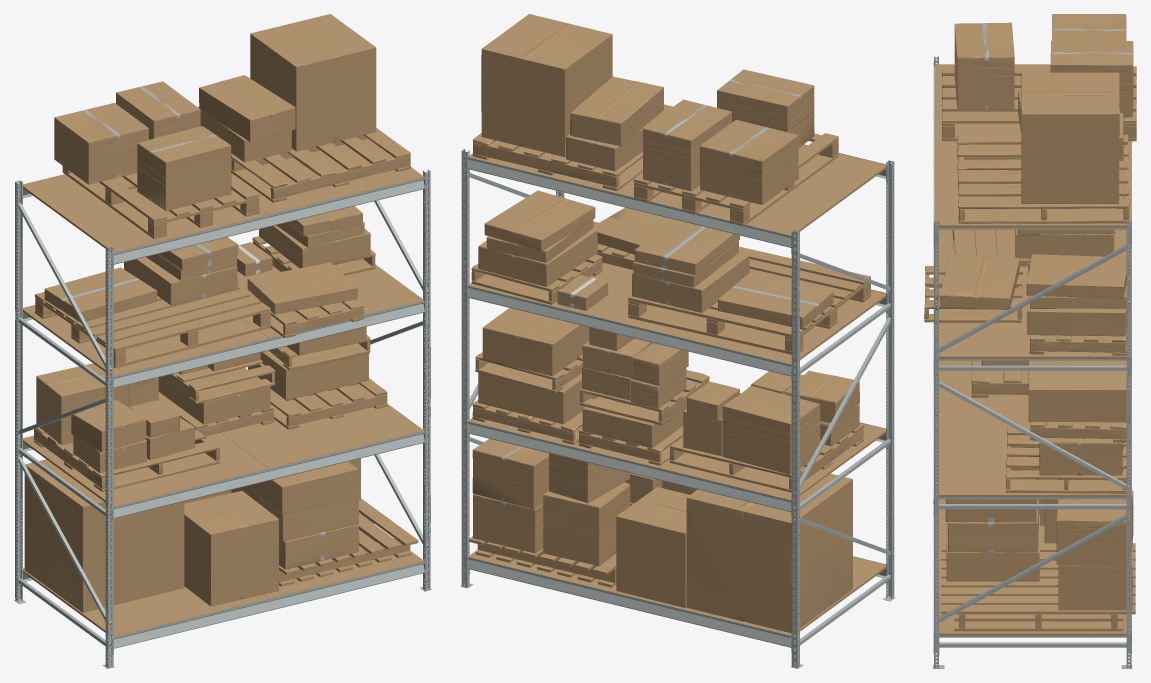
The model's file is rack_composition_a04.glb.
The picture shows the model from 3 angles, left to right: view 1: azimuth 30°, elevation 25°; view 2: azimuth 150°, elevation 25°; view 3: azimuth 270°, elevation 25°; orthographic projection. The views are drawn at different scales.
Size of the model in its own units: 2.45 by 3.73 by 1.31.
